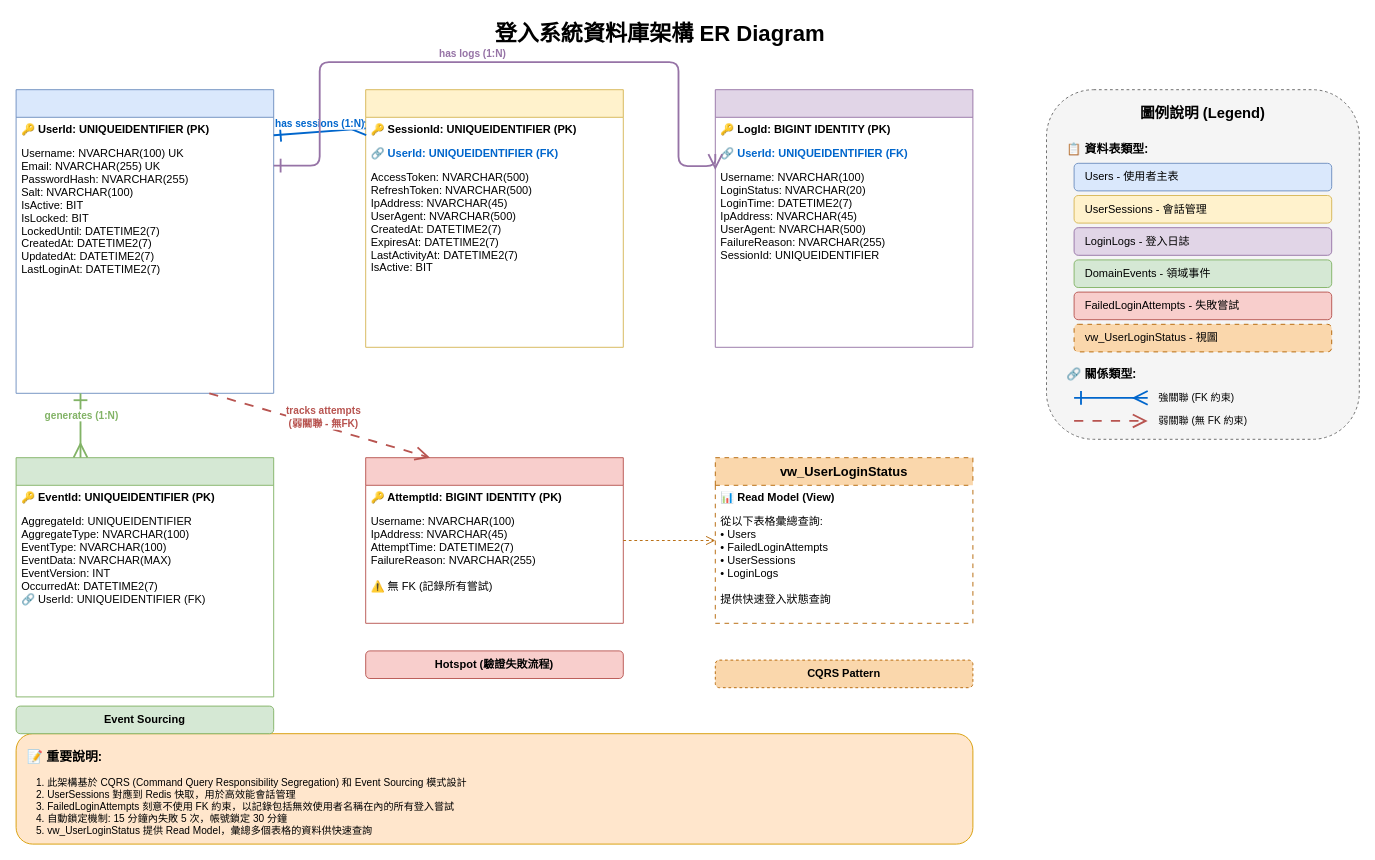
This 1375x860 diagram has some shape labels left out. Here are the shapes that lost their labels. From the top down, the box of each, then its label:
(365, 89, 623, 347): UserSessions
(714, 89, 973, 347): LoginLogs
(15, 89, 274, 393): Users
(365, 457, 623, 623): FailedLoginAttempts
(15, 457, 274, 697): DomainEvents
